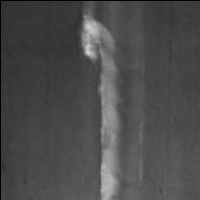scratches: (79, 5, 127, 200)
